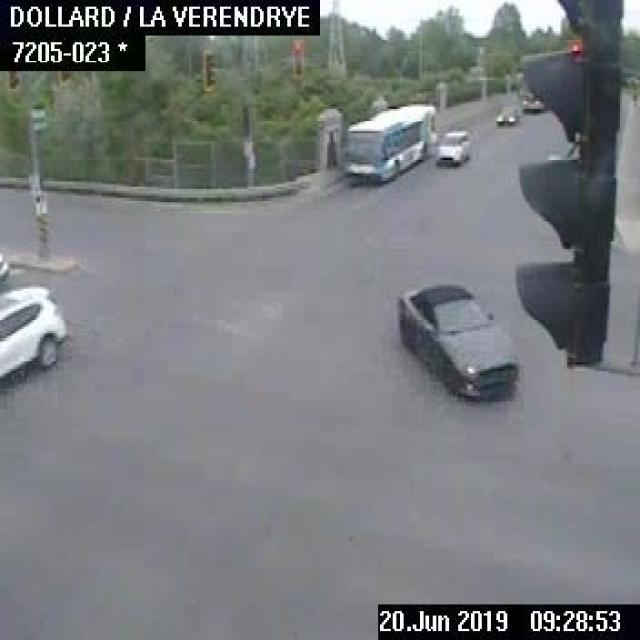bus: (340, 98, 434, 184)
pedestrian: (627, 86, 638, 110)
vehicle: (393, 278, 522, 404), (0, 282, 69, 393), (432, 128, 471, 166), (520, 84, 551, 114), (493, 100, 519, 124), (0, 247, 11, 282)
